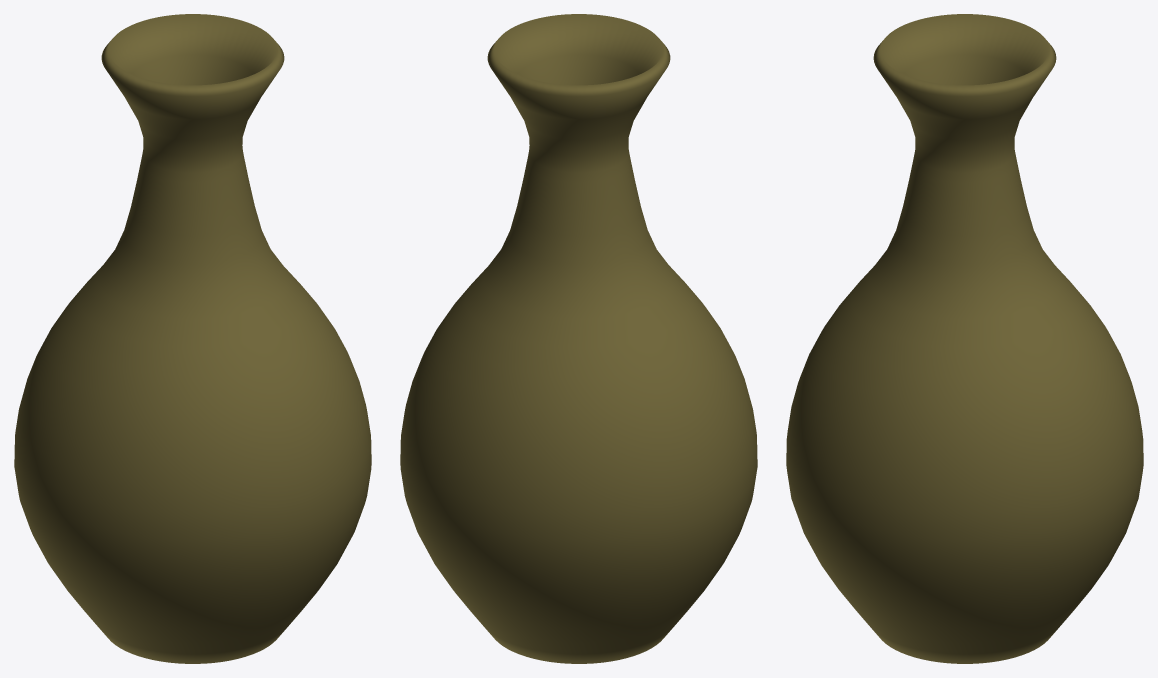
File: pot.fbx
The picture shows the model from 3 angles, left to right: view 1: azimuth 30°, elevation 25°; view 2: azimuth 150°, elevation 25°; view 3: azimuth 270°, elevation 25°; orthographic projection.
Visible parts, largest first — view 1: Pot; view 2: Pot; view 3: Pot.
Boxes of the visible parts, x1,y1,x2,y2 form: Pot: (14, 14, 371, 663); Pot: (400, 14, 757, 663); Pot: (786, 14, 1143, 663).
Bounding box in the file's own units: 123 × 219 × 123.
